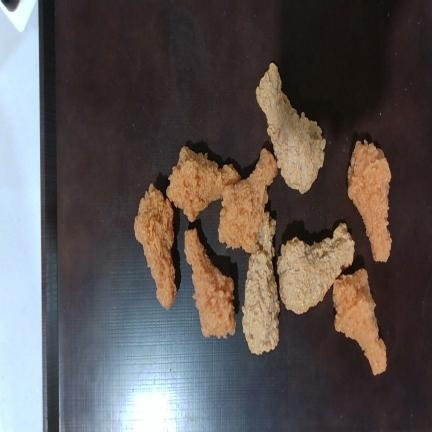chicken: (256, 62, 326, 193), (277, 223, 354, 314), (218, 148, 277, 253), (333, 269, 386, 374), (185, 229, 236, 338), (166, 146, 240, 221), (242, 212, 280, 355), (134, 184, 177, 309), (348, 140, 392, 261)
